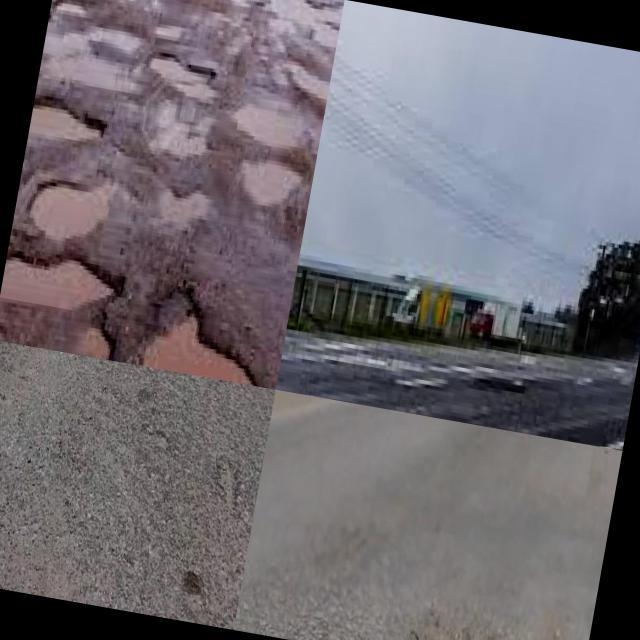Pothole: (149, 323, 250, 385), (0, 260, 110, 312), (30, 180, 107, 242), (28, 95, 105, 138), (233, 106, 290, 153), (241, 159, 297, 204), (154, 44, 217, 76)
